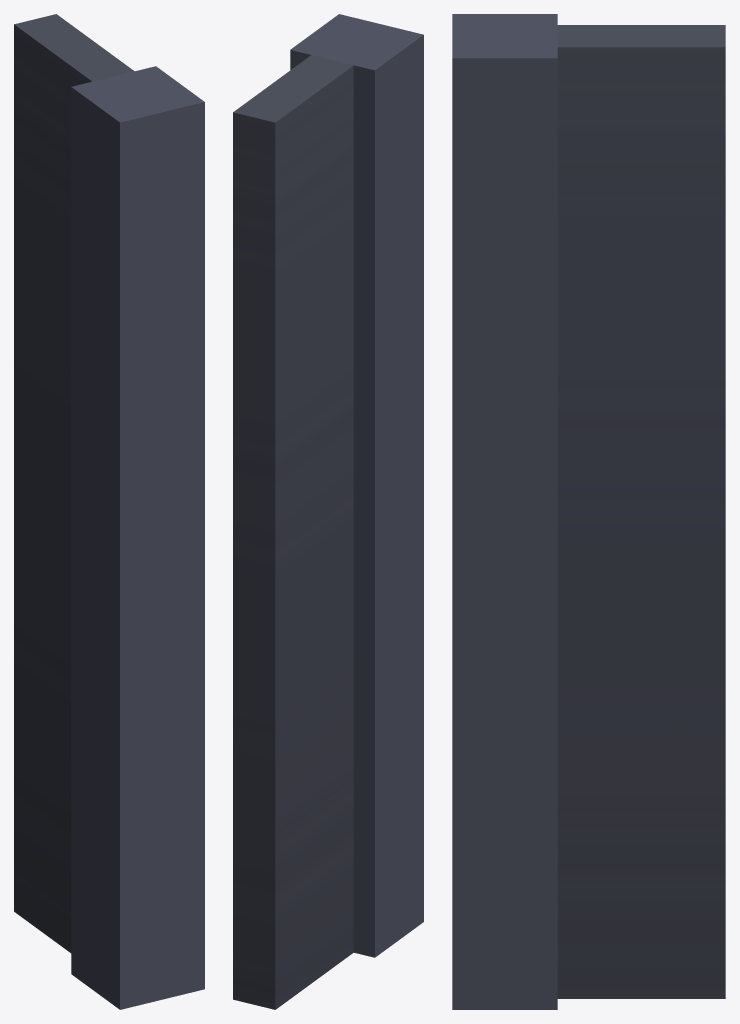
File: wall-side.glb
3 views of the same model, side by side, from view 1: azimuth 30°, elevation 25°; view 2: azimuth 150°, elevation 25°; view 3: azimuth 270°, elevation 25° (orthographic). The views are drawn at different scales.
Visible parts, largest first — view 1: wall-side; view 2: wall-side; view 3: wall-side.
Part boxes in pixels (x1,y1,x2,y2): wall-side: (14,14,204,1009); wall-side: (233,14,423,1009); wall-side: (452,14,725,1009).
Size of the model in its own units: 0.1 by 1 by 0.26.
1 material, 1 textured.
